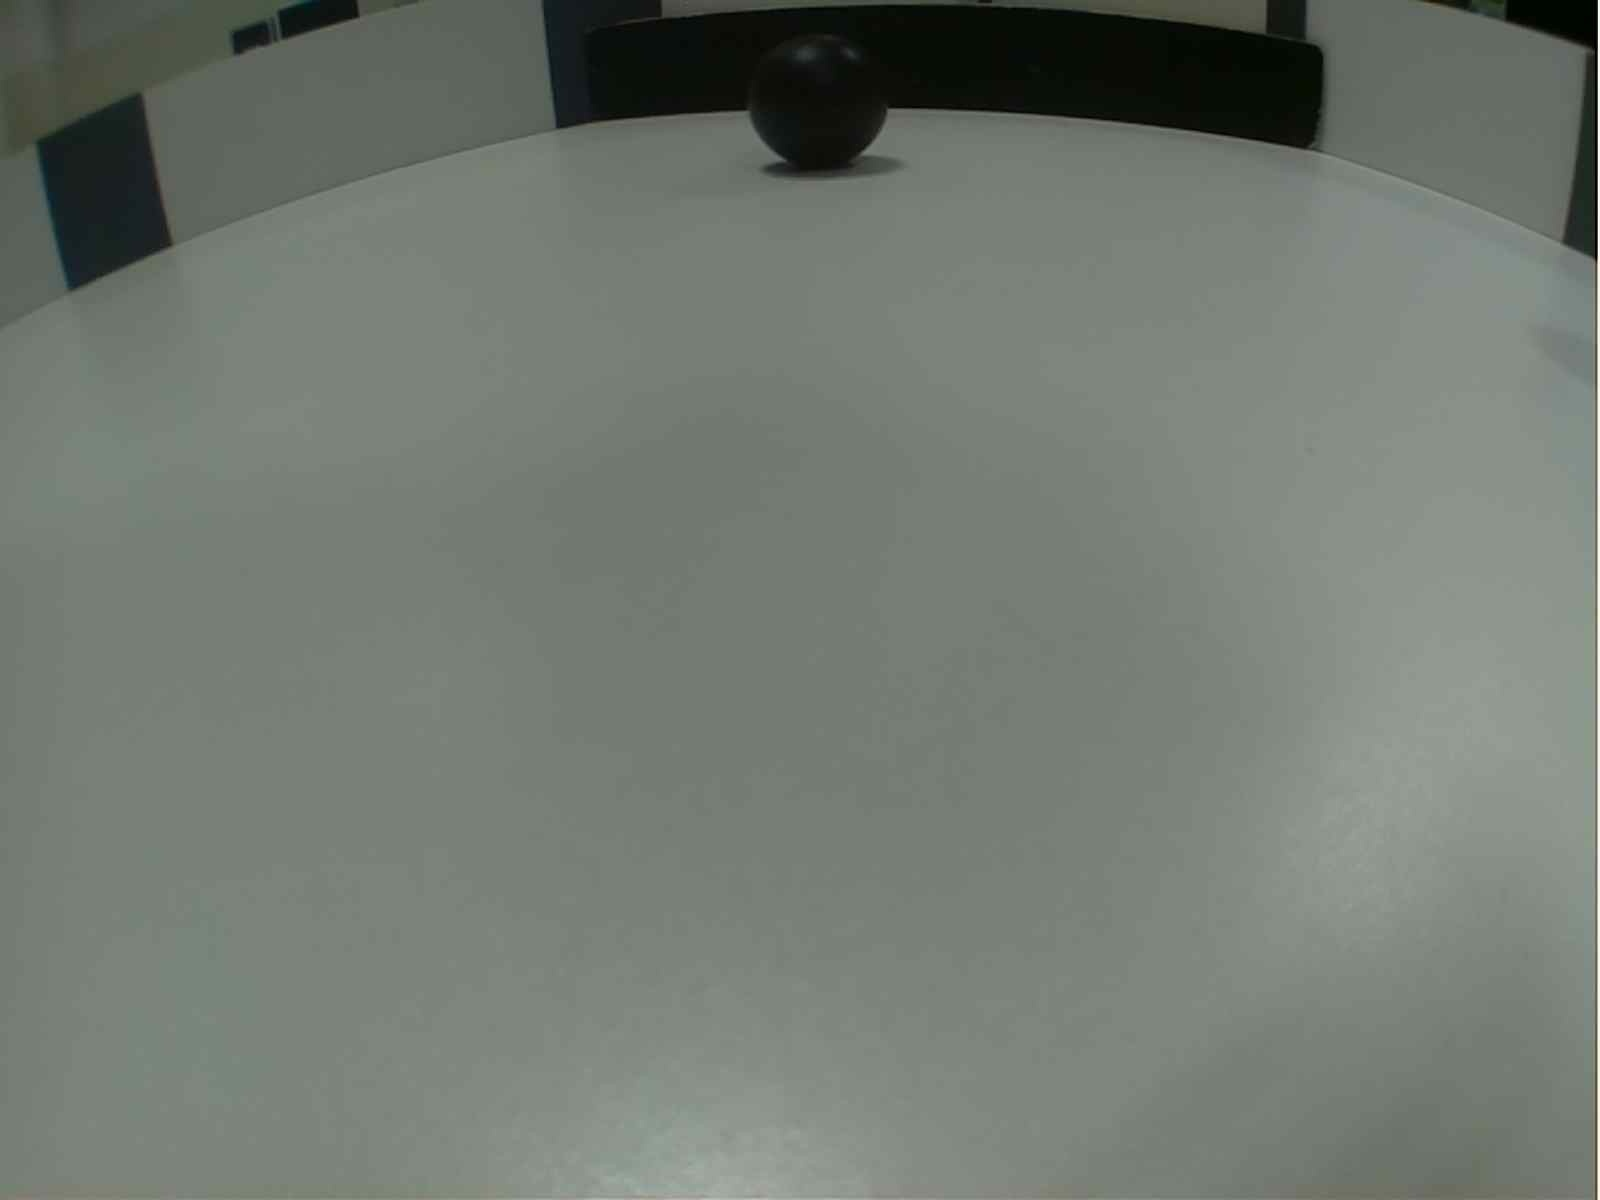nera: (750, 32, 887, 168)
